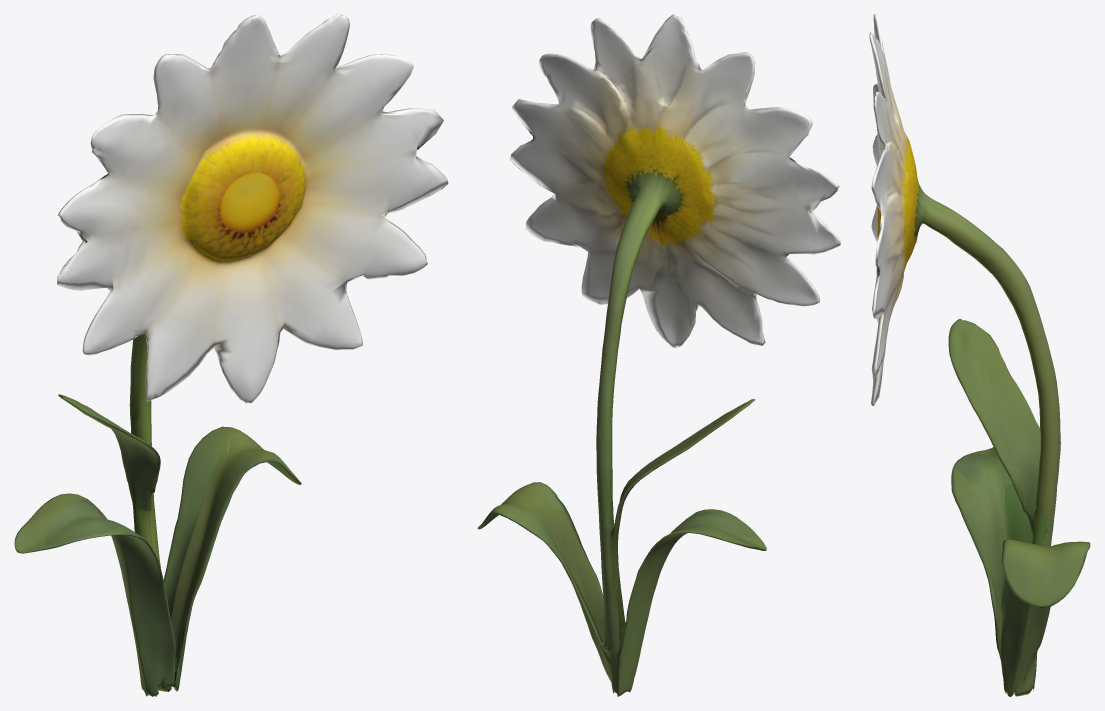
Rendered from Flower.fbx.
3 renders of one model, left to right at view 1: azimuth 30°, elevation 25°; view 2: azimuth 150°, elevation 25°; view 3: azimuth 270°, elevation 25°, orthographic. The views are drawn at different scales.
Visible parts, largest first — view 1: input; view 2: input; view 3: input.
Part boxes in pixels (bbox=[...]): input: bbox=[14, 14, 448, 696]; input: bbox=[477, 14, 840, 696]; input: bbox=[869, 14, 1090, 696].
Size of the model in its own units: 111 by 199 by 59.87.
1 material, 1 textured.
